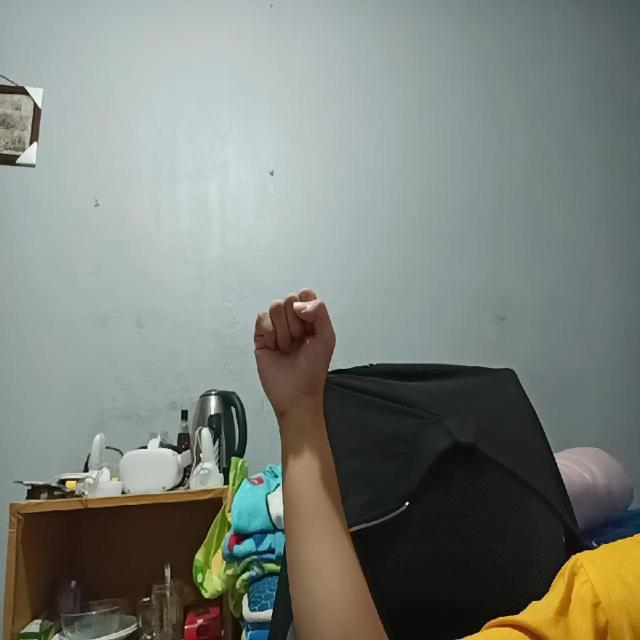fist: (252, 287, 334, 417)
